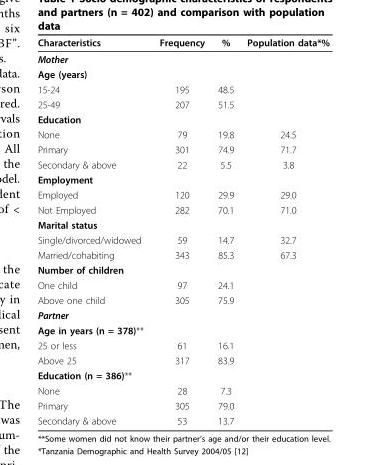table: (36, 36, 328, 426)
table column: (36, 36, 150, 426), (239, 36, 328, 426), (150, 36, 210, 426), (210, 36, 239, 426)
table column header: (36, 36, 328, 50)
table projected row header: (36, 50, 328, 66), (36, 66, 328, 81), (36, 111, 328, 126), (36, 171, 328, 186), (36, 217, 328, 232), (36, 262, 328, 277), (36, 307, 328, 322), (36, 322, 328, 337), (36, 367, 328, 382)
table row: (36, 50, 328, 66), (36, 186, 328, 202), (36, 66, 328, 81), (36, 81, 328, 96), (36, 96, 328, 111), (36, 111, 328, 126), (36, 126, 328, 141), (36, 141, 328, 156), (36, 156, 328, 171), (36, 171, 328, 186), (36, 202, 328, 217), (36, 217, 328, 232), (36, 232, 328, 247), (36, 247, 328, 262), (36, 262, 328, 277), (36, 277, 328, 292), (36, 292, 328, 307), (36, 307, 328, 322), (36, 322, 328, 337), (36, 337, 328, 352), (36, 352, 328, 367), (36, 367, 328, 382), (36, 382, 328, 397), (36, 397, 328, 412), (36, 36, 328, 50), (36, 412, 328, 426)
